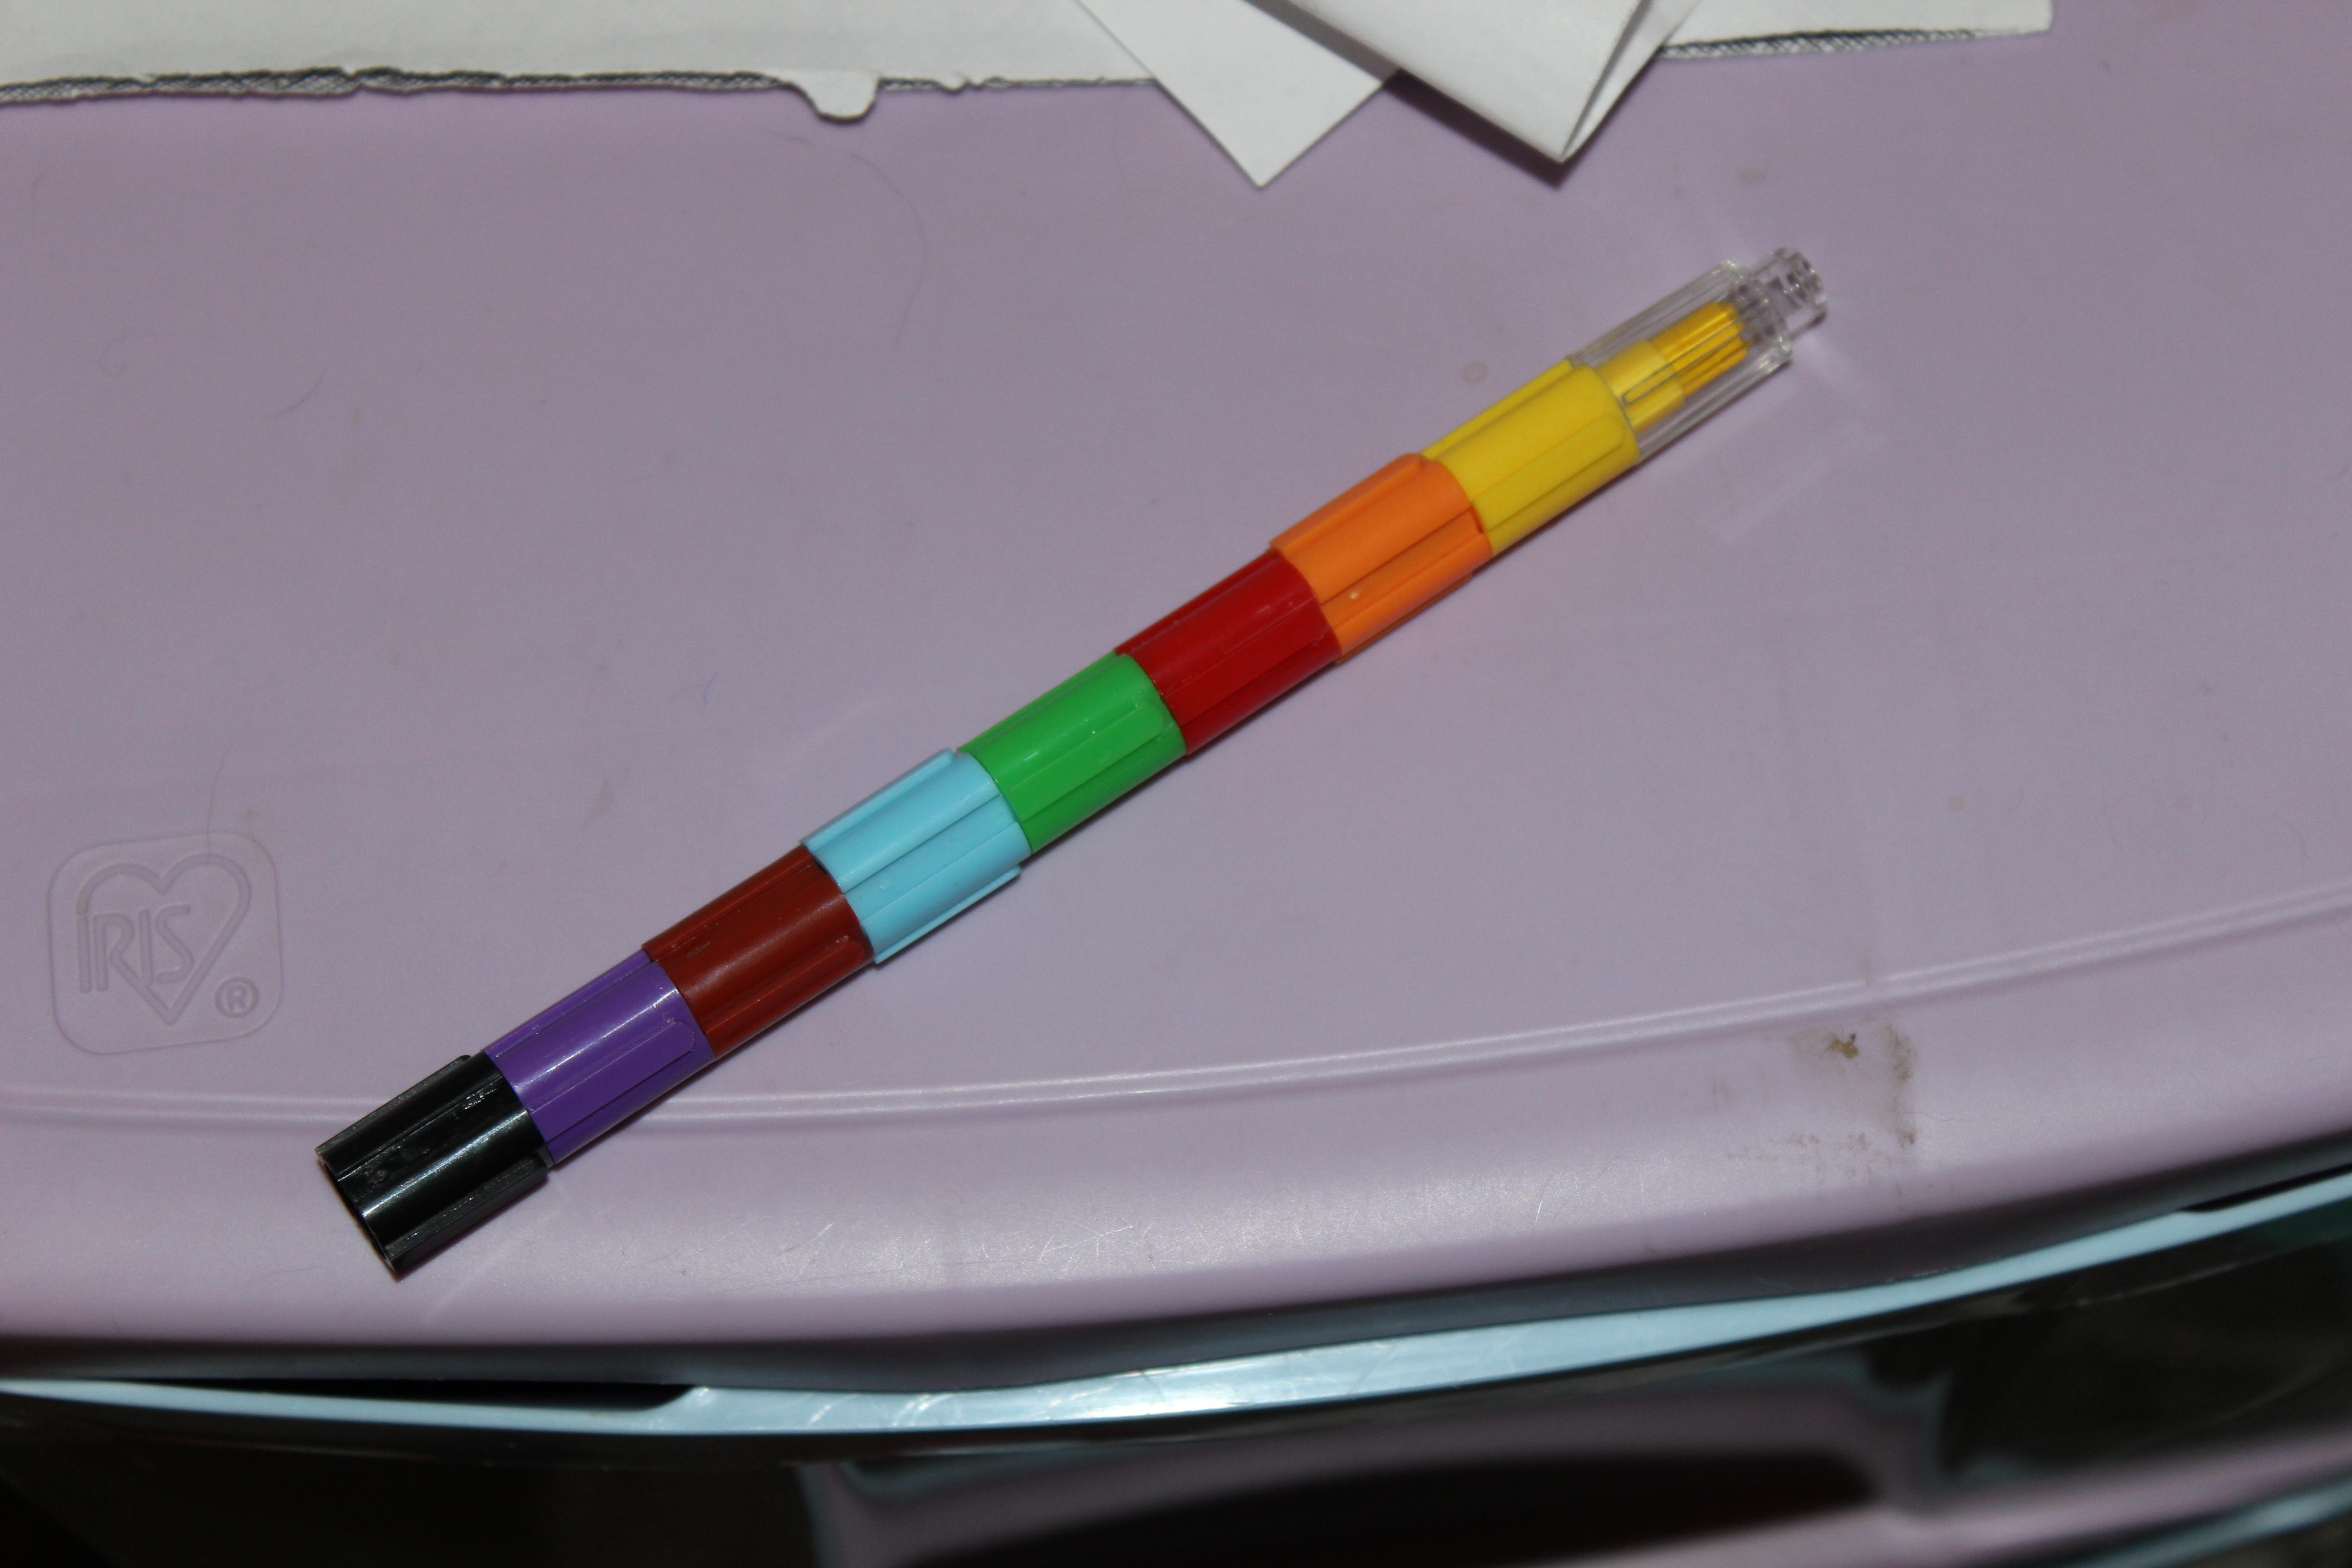rainbowPens: (278, 208, 1867, 1325)
